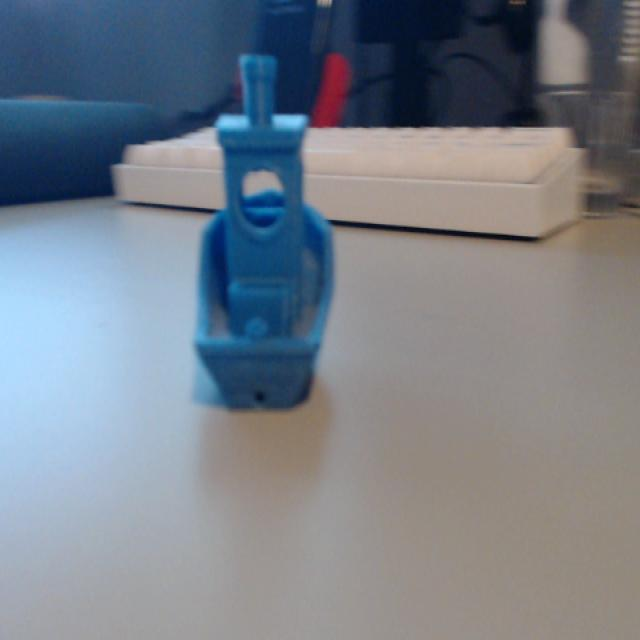benchy: (189, 49, 338, 412)
